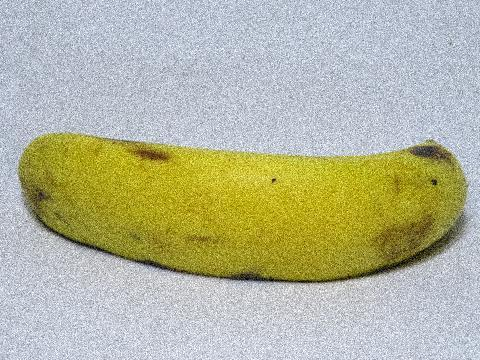freshripe: (11, 98, 479, 297)
